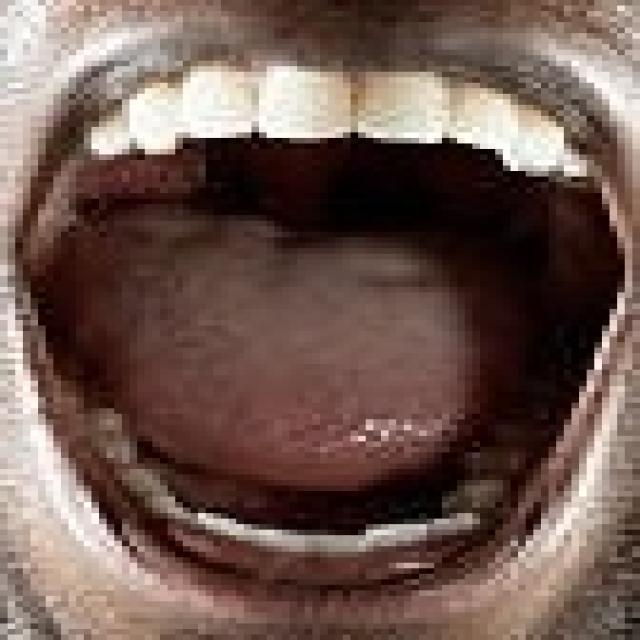open-mouth: (8, 16, 632, 596)
